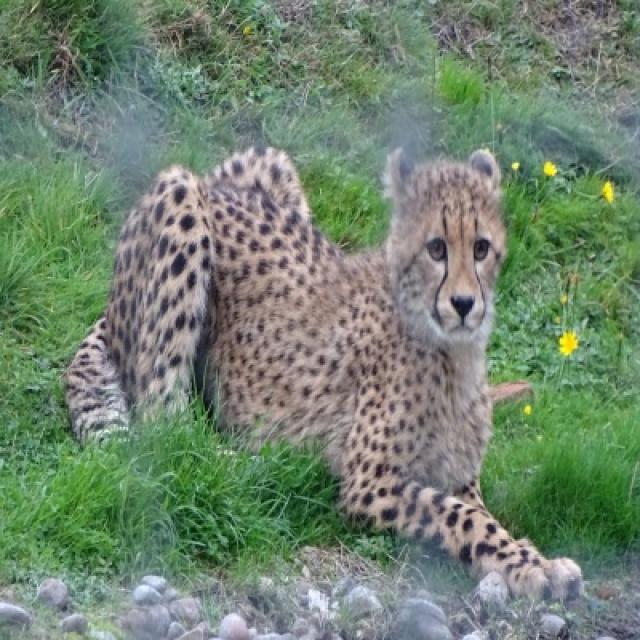Cheetah: (64, 143, 582, 606)
